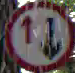Two way: (2, 1, 74, 72)
